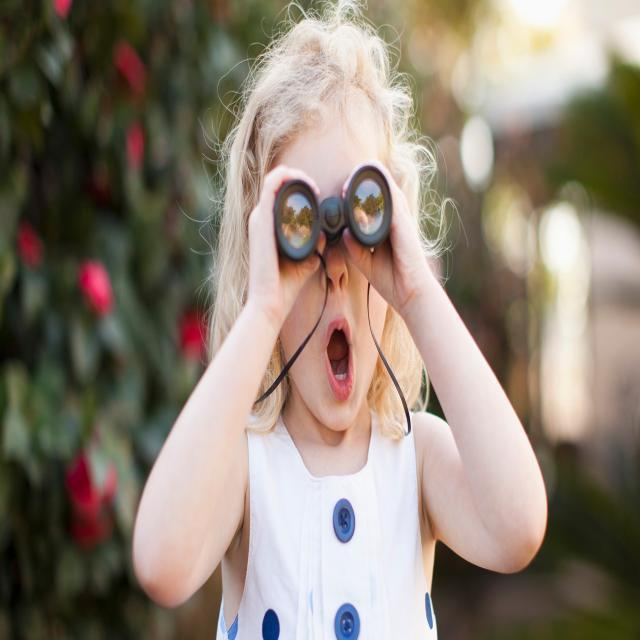Binocular: (257, 163, 408, 262)
